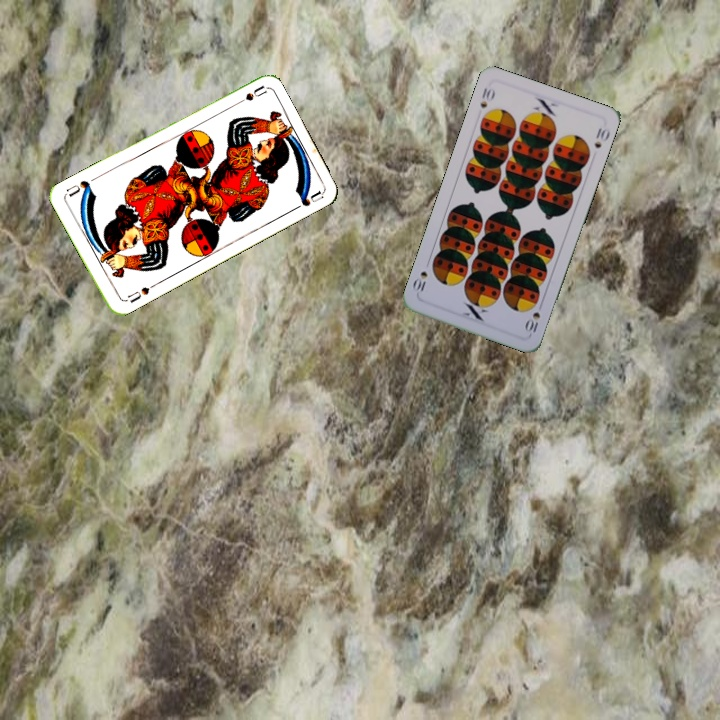S10: (521, 298, 546, 337), (476, 83, 498, 111)
SU: (229, 82, 268, 109), (124, 280, 158, 305)
